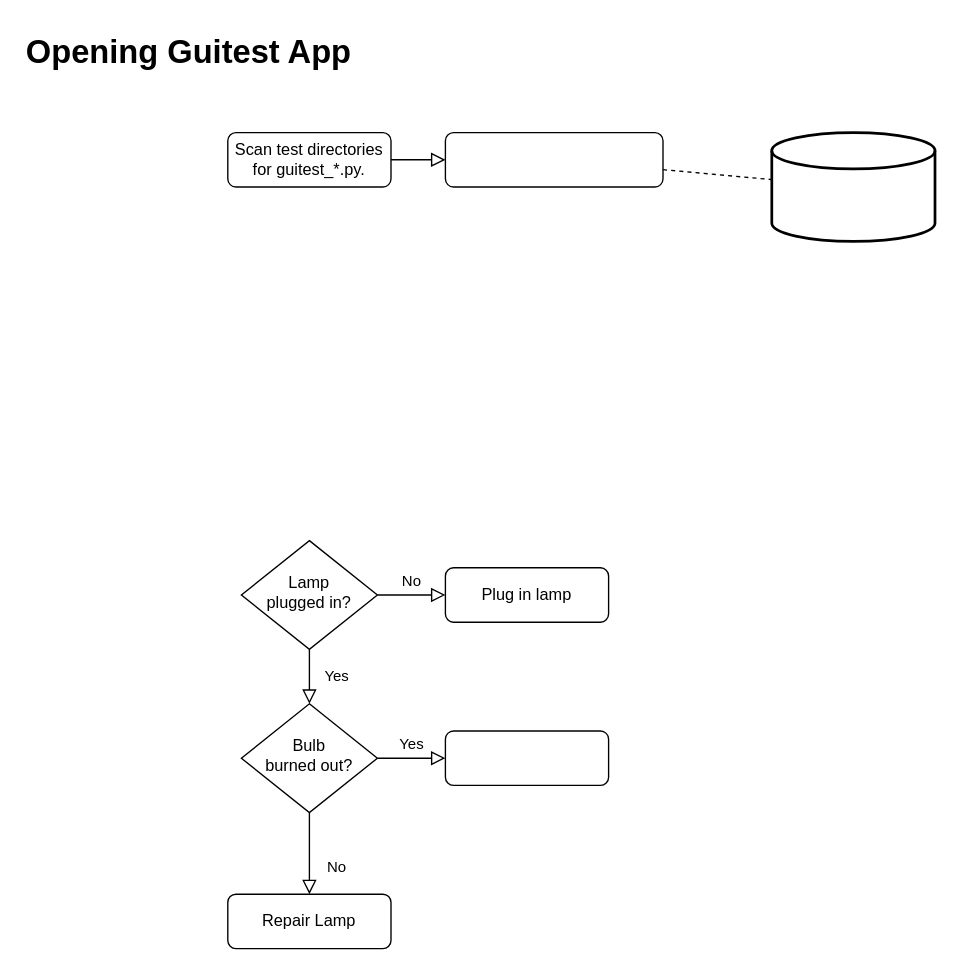
This 959x972 diagram has some shape labels left out. Here are the shapes that lost their labels. From the top down, the box of each, then its label:
(444, 131, 663, 187): Update database (add/remove) test cases.
(444, 730, 609, 785): Replace Bulb
